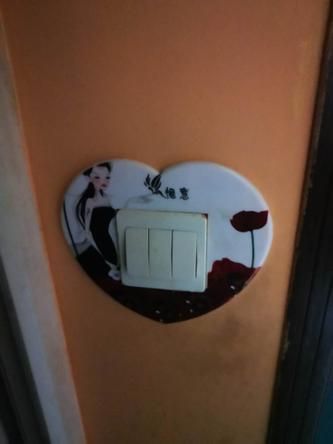switch: (177, 229, 200, 285), (125, 226, 147, 275), (153, 226, 168, 277)
